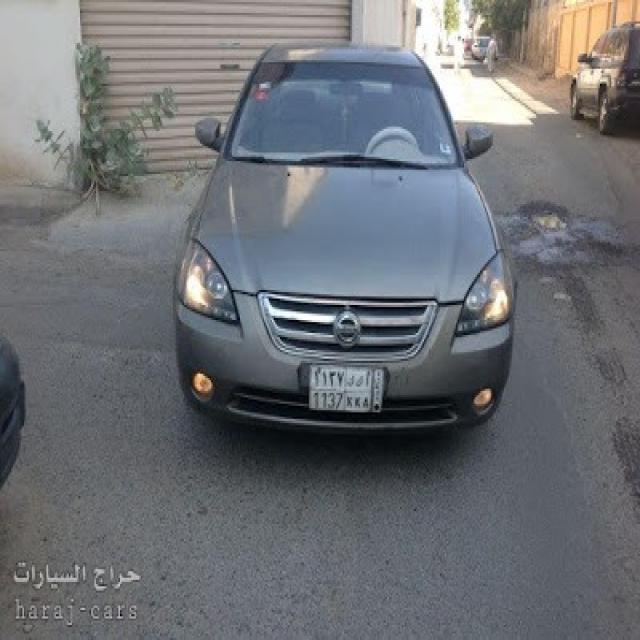license_plate: (307, 361, 387, 416)
